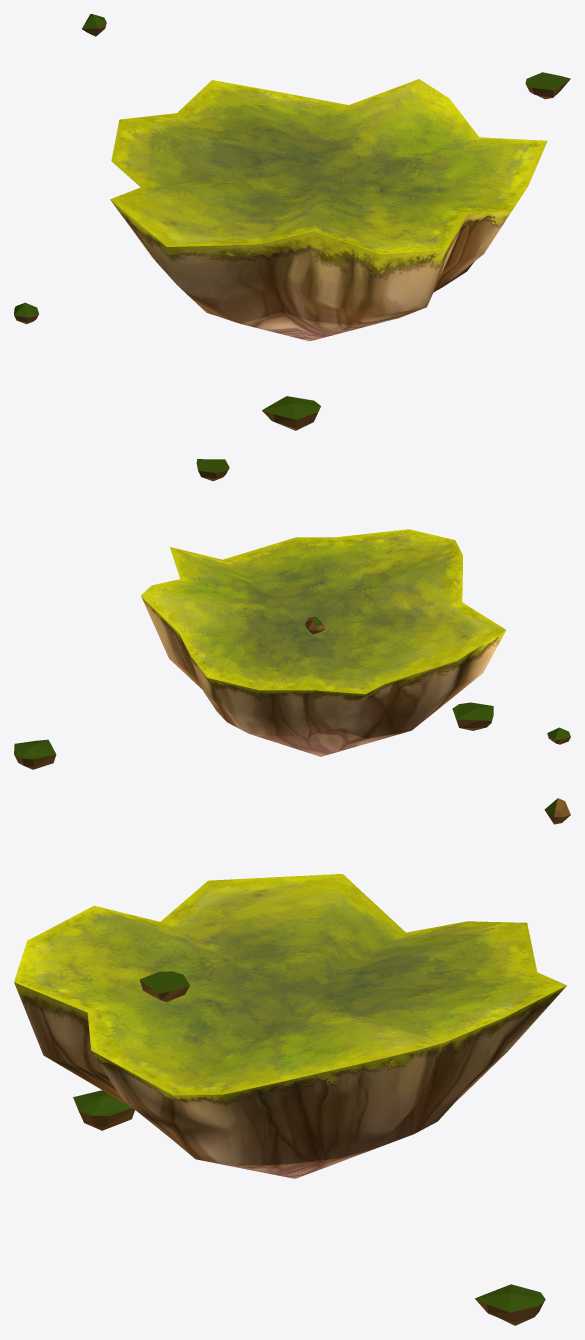
The model's file is Islas flotantes multiples.FBX.
3 views of the same model, one above another, from view 1: azimuth 30°, elevation 25°; view 2: azimuth 150°, elevation 25°; view 3: azimuth 270°, elevation 25° (orthographic). The views are drawn at different scales.
Visible parts, largest first — view 1: tierra_; view 2: tierra_; view 3: tierra_.
Part boxes in pixels (left/top/right/bottom): tierra_: left=14, top=14, right=570, bottom=430; tierra_: left=14, top=459, right=570, bottom=769; tierra_: left=14, top=798, right=570, bottom=1325.
Size of the model in its own units: 19.38 by 14.13 by 9.16.
3 materials, 1 textured.
